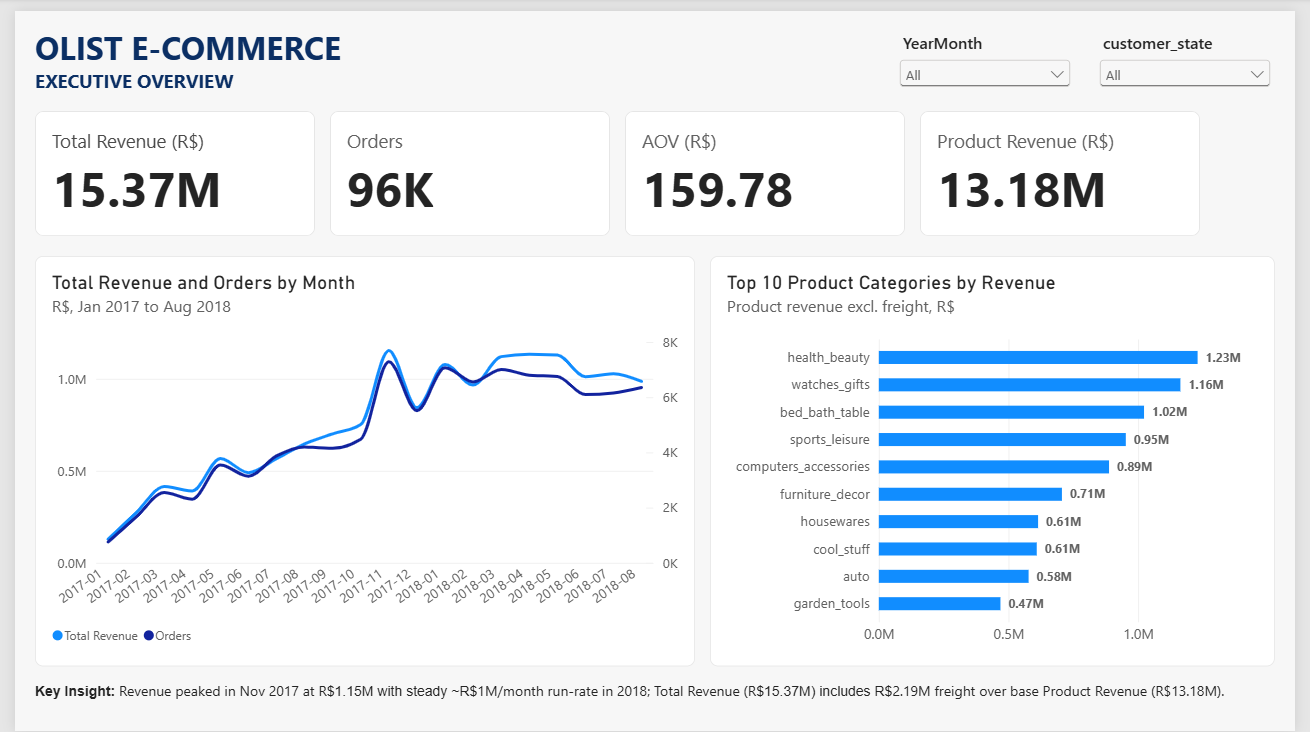

The dashboard page shown, as its layout file describes it:
{"tool":"powerbi","page":{"name":"Executive Overview","canvas":[1280,720],"ordinal":0},"visuals":[{"type":"cardVisual","fields":{"Data":["clean_orders.Total Revenue"]},"box":[20,100,280,125],"z":0},{"type":"cardVisual","fields":{"Data":["clean_orders.Orders"]},"box":[315,100,280,125],"z":1000},{"type":"cardVisual","fields":{"Data":["clean_orders.AOV"]},"box":[610,100,280,125],"z":2000},{"type":"cardVisual","fields":{"Data":["clean_orders.Product Revenue"]},"box":[905,100,280,125],"z":3000},{"type":"lineChart","title":"Total Revenue and Orders by Month","fields":{"Category":["DateTable.YearMonth"],"Y":["clean_orders.Total Revenue"],"Y2":["clean_orders.Orders"]},"box":[20,245,660,410],"z":4000},{"type":"clusteredBarChart","title":"Top 10 Product Categories by Revenue","fields":{"Category":["category_translation.product_category_name_english"],"Y":["clean_orders.Product Revenue"]},"box":[695,245,565,410],"z":5000},{"type":"slicer","fields":{"Values":["DateTable.YearMonth"]},"box":[880,20,180,60],"z":6000},{"type":"slicer","fields":{"Values":["Customers.customer_state"]},"box":[1080,20,180,60],"z":7000},{"type":"textbox","box":[20,15,600,70],"z":8000},{"type":"textbox","box":[20,670,1240,40],"z":8001}]}

Visuals, with their boxes in screenshot pixels (x1, y1, x2, y2), scaled from the page's 1280x720 canvas onto the 1310x732 screenshot:
cardVisual - clean_orders.Total Revenue: rect(20, 102, 307, 229)
cardVisual - clean_orders.Orders: rect(322, 102, 609, 229)
cardVisual - clean_orders.AOV: rect(624, 102, 911, 229)
cardVisual - clean_orders.Product Revenue: rect(926, 102, 1213, 229)
"Total Revenue and Orders by Month" lineChart: rect(20, 249, 696, 666)
"Top 10 Product Categories by Revenue" clusteredBarChart: rect(711, 249, 1290, 666)
slicer - DateTable.YearMonth: rect(901, 20, 1085, 81)
slicer - Customers.customer_state: rect(1105, 20, 1290, 81)
textbox: rect(20, 15, 635, 86)
textbox: rect(20, 681, 1290, 722)
